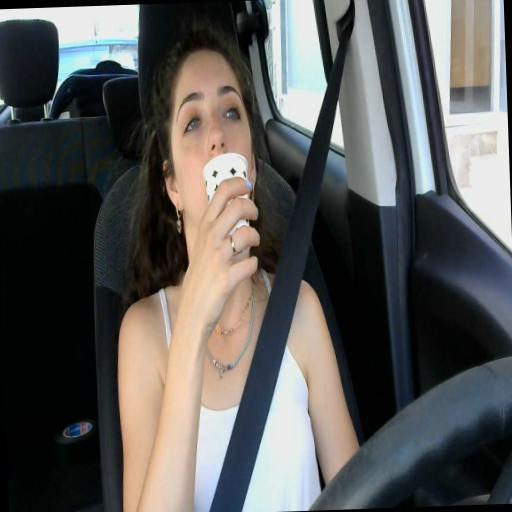Drinking: (160, 47, 258, 279)
